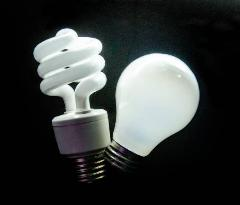lightbulb: (33, 27, 200, 183), (33, 28, 111, 182), (104, 52, 199, 172)
